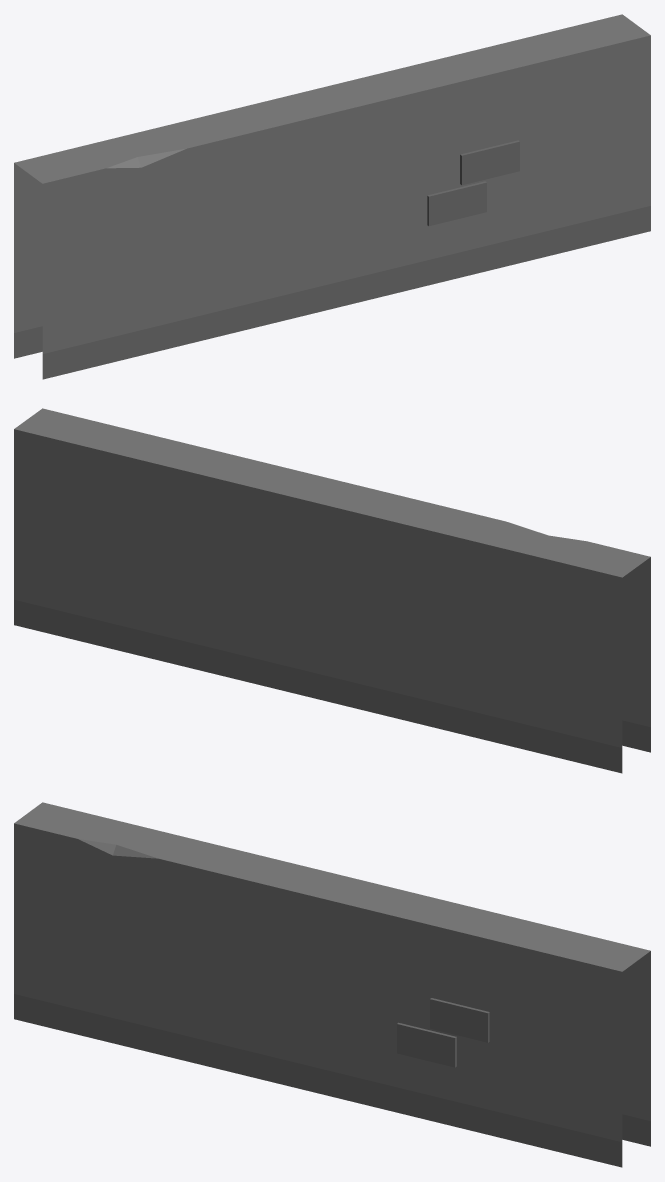
File: SM_FloorProps_Fence_01.fbx
3 views of the same model, one above another, from view 1: azimuth 30°, elevation 25°; view 2: azimuth 150°, elevation 25°; view 3: azimuth 330°, elevation 25° (orthographic).
Visible parts, largest first — view 1: SM_FloorProps_Fence_01; view 2: SM_FloorProps_Fence_01; view 3: SM_FloorProps_Fence_01.
Boxes of the visible parts, left/top/right/bottom form: SM_FloorProps_Fence_01: left=14, top=14, right=650, bottom=379; SM_FloorProps_Fence_01: left=14, top=408, right=650, bottom=773; SM_FloorProps_Fence_01: left=14, top=802, right=650, bottom=1167.
Size of the model in its own units: 2.5 by 0.7695 by 0.2153.
